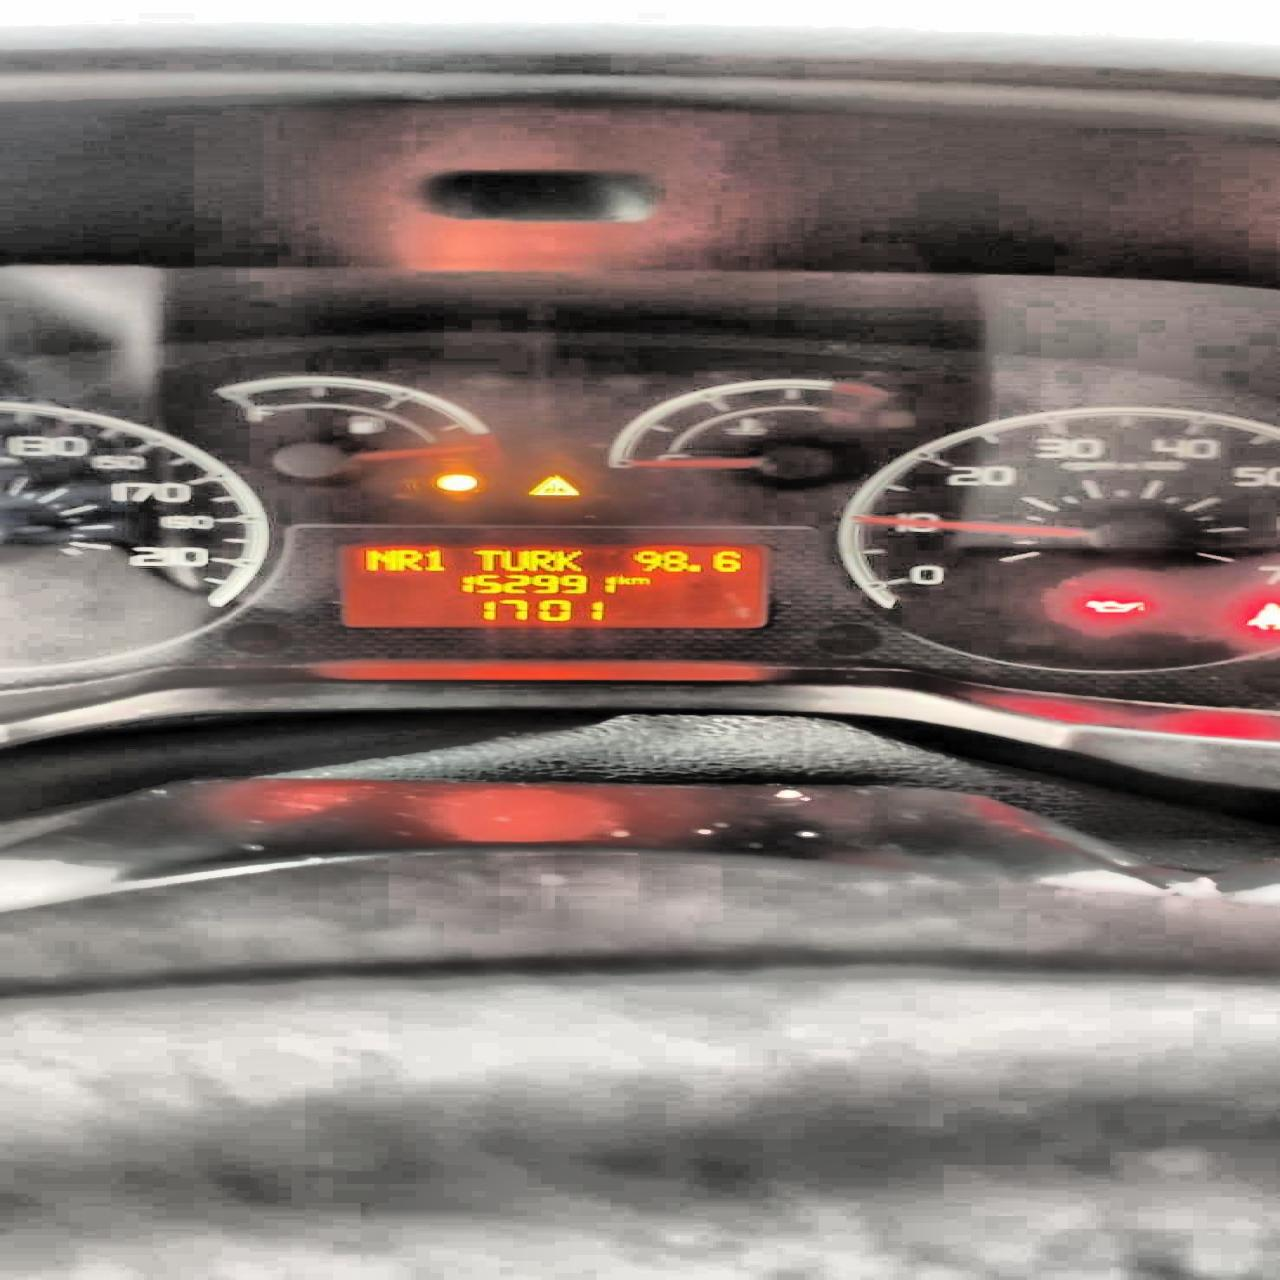-: (685, 561, 704, 572)
0: (535, 598, 568, 621)
1: (425, 547, 445, 572), (478, 598, 497, 620), (586, 599, 601, 621), (602, 573, 617, 595), (458, 573, 474, 593)
2: (501, 572, 529, 594)
5: (475, 572, 499, 593)
6: (712, 547, 742, 573)
7: (499, 598, 525, 620)
8: (659, 549, 683, 571)
9: (557, 572, 585, 593), (633, 547, 659, 570), (531, 573, 557, 595)
X: (365, 545, 394, 571), (470, 546, 498, 571), (499, 547, 527, 571), (553, 547, 583, 570), (394, 547, 420, 571), (530, 549, 552, 570), (618, 573, 629, 586), (632, 576, 647, 585)
odometer: (340, 542, 772, 628)
